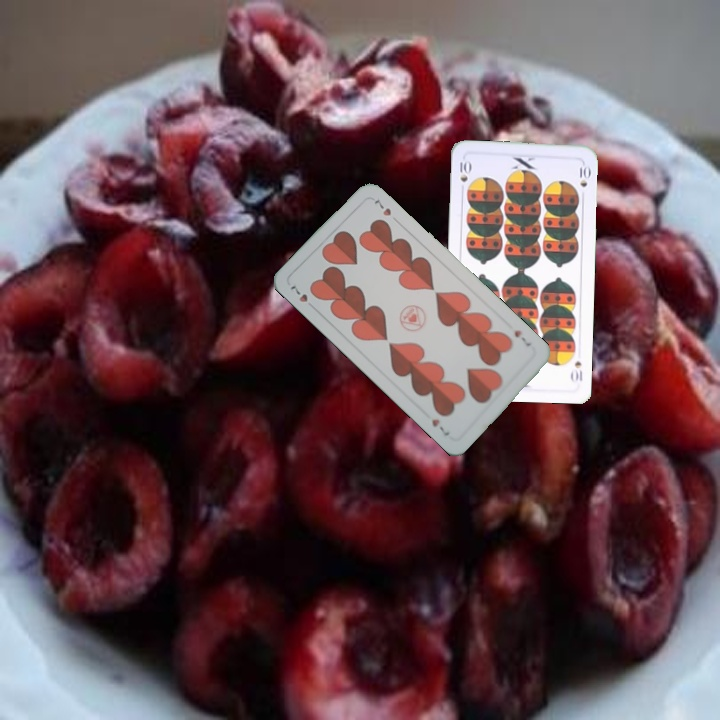H7: (286, 282, 318, 312), (510, 326, 533, 349)
S10: (456, 157, 473, 195), (567, 357, 585, 385)
